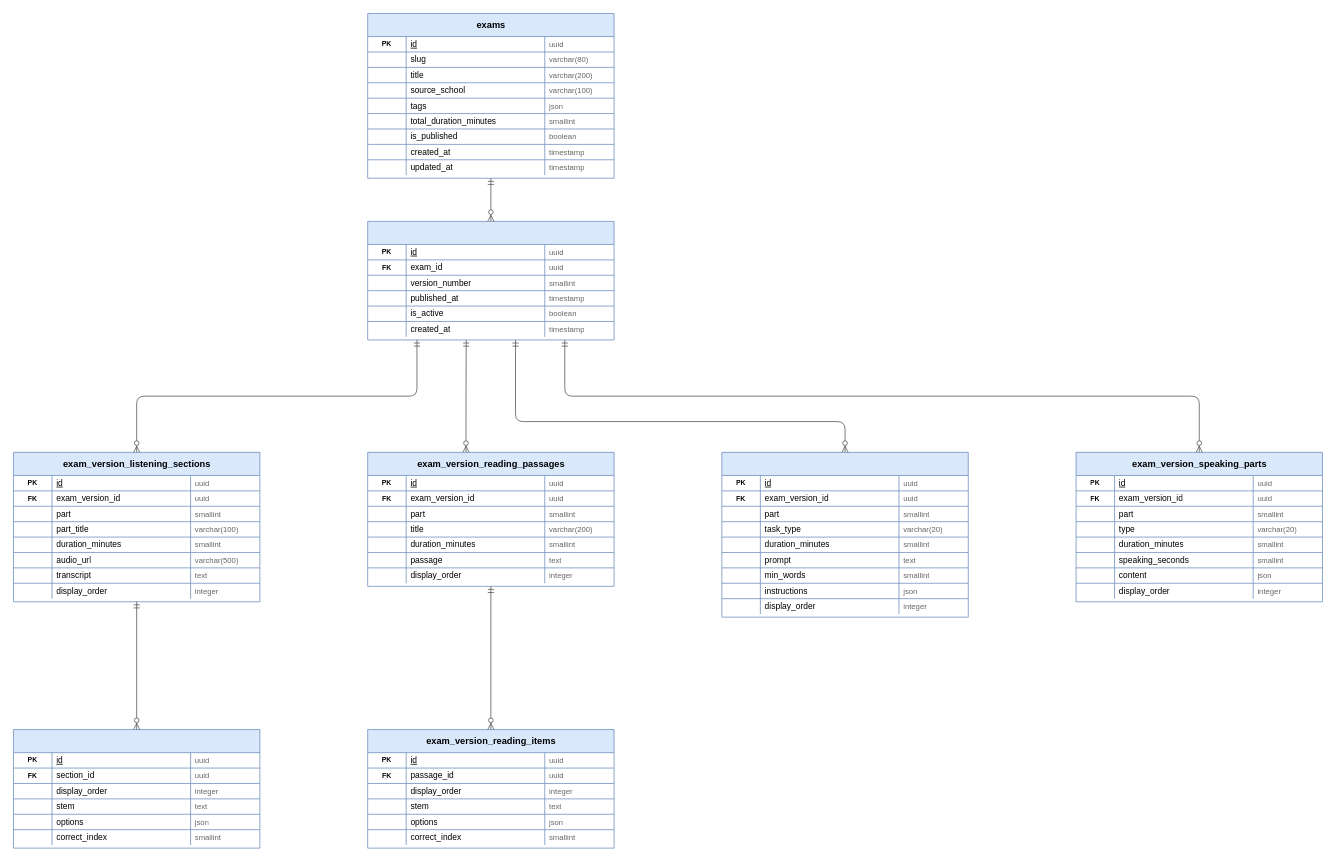
Image size: 1336x862. Some labels were removed from this diagram. The box of each missing label's shape, as (x1, y1, x2, y2) in pixels:
exam_version_listening_items: (13, 729, 260, 848)
exam_version_writing_tasks: (721, 452, 968, 617)
exam_versions: (367, 221, 614, 340)
